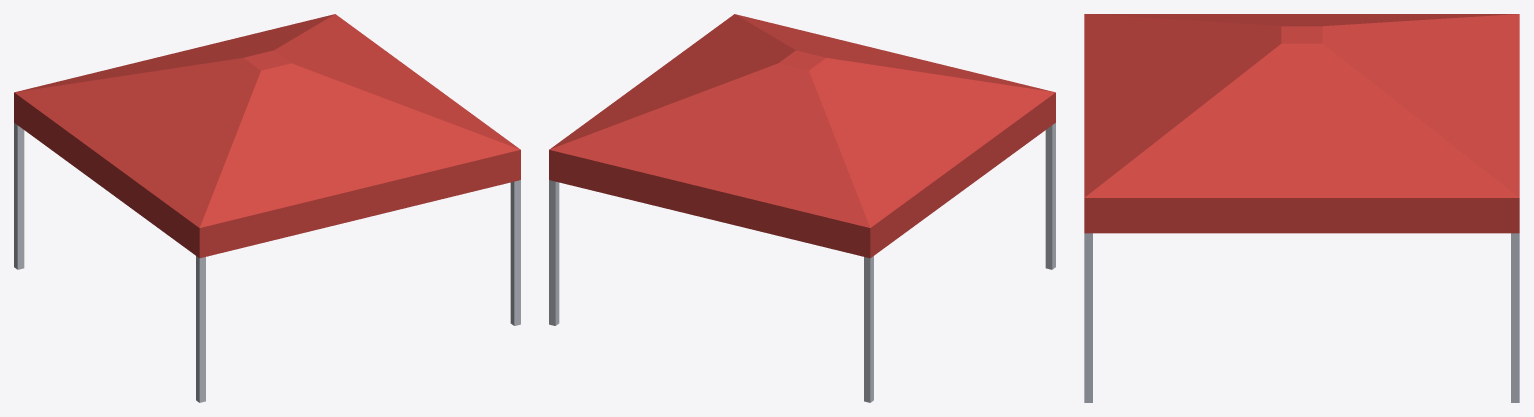
The model's file is paddock_tent.glb.
The picture shows the model from 3 angles, left to right: view 1: azimuth 30°, elevation 25°; view 2: azimuth 150°, elevation 25°; view 3: azimuth 270°, elevation 25°; orthographic projection. The views are drawn at different scales.
Parts seen in each view (by area): view 1: paddock_tent; view 2: paddock_tent; view 3: paddock_tent.
Boxes of the visible parts, x1,y1,x2,y2 form: paddock_tent: (14, 14, 520, 402); paddock_tent: (549, 14, 1055, 402); paddock_tent: (1084, 14, 1519, 402).
Size of the model in its own units: 5 by 3.5 by 5.
